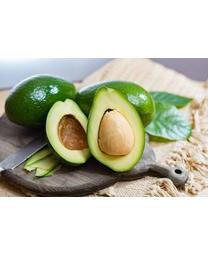avocado: (85, 86, 145, 173), (5, 74, 77, 129), (77, 81, 154, 129), (46, 97, 92, 168)
